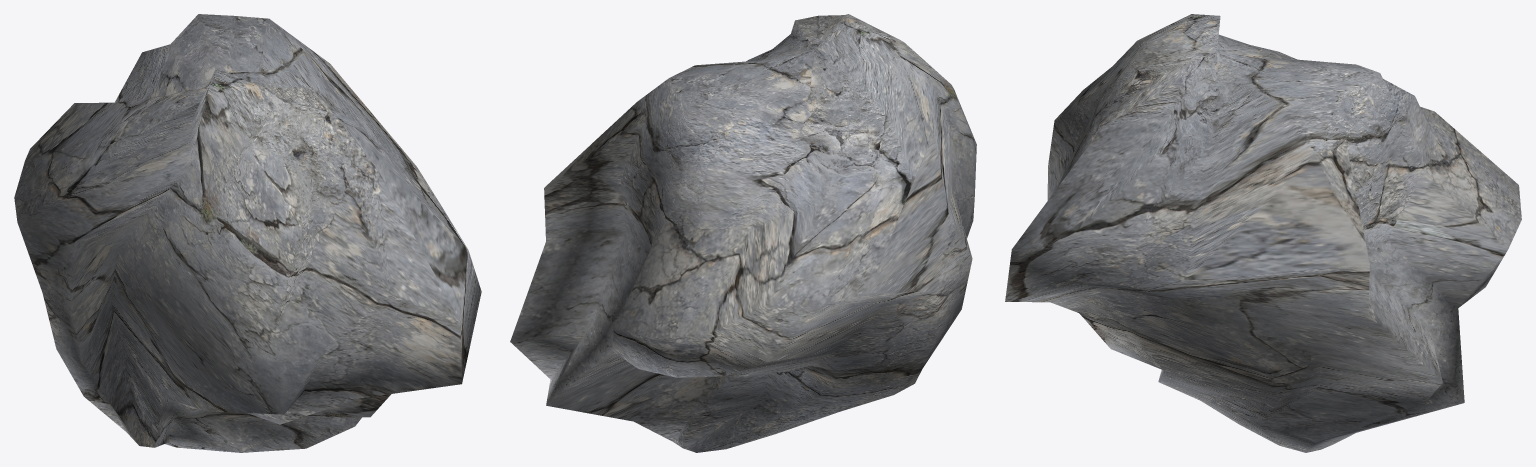
The model's file is 03_rock_smooth.fbx.
The picture shows the model from 3 angles, left to right: view 1: azimuth 30°, elevation 25°; view 2: azimuth 150°, elevation 25°; view 3: azimuth 270°, elevation 25°; orthographic projection. The views are drawn at different scales.
Visible parts, largest first — view 1: pSphere2; view 2: pSphere2; view 3: pSphere2.
Part boxes in pixels (bbox=[...]): pSphere2: bbox=[14, 14, 481, 452]; pSphere2: bbox=[510, 14, 976, 452]; pSphere2: bbox=[1005, 14, 1521, 452].
Bounding box in the file's own units: 2.21 × 2.35 × 2.92.
1 material, 1 textured.
